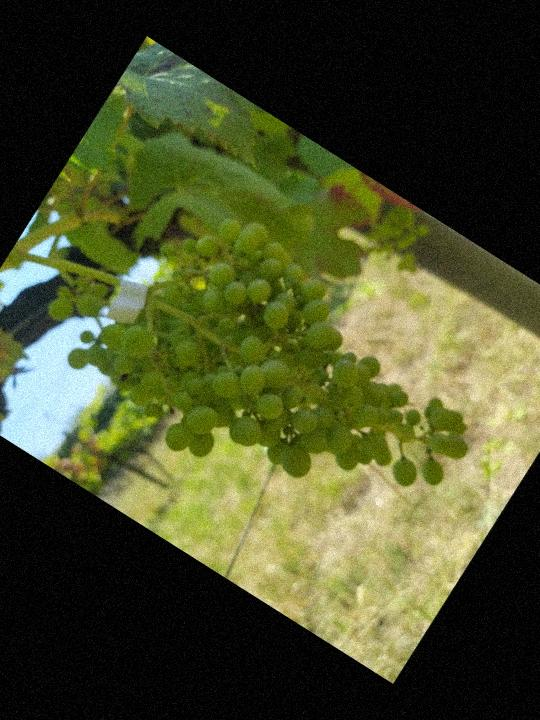grape: (50, 168, 517, 587)
